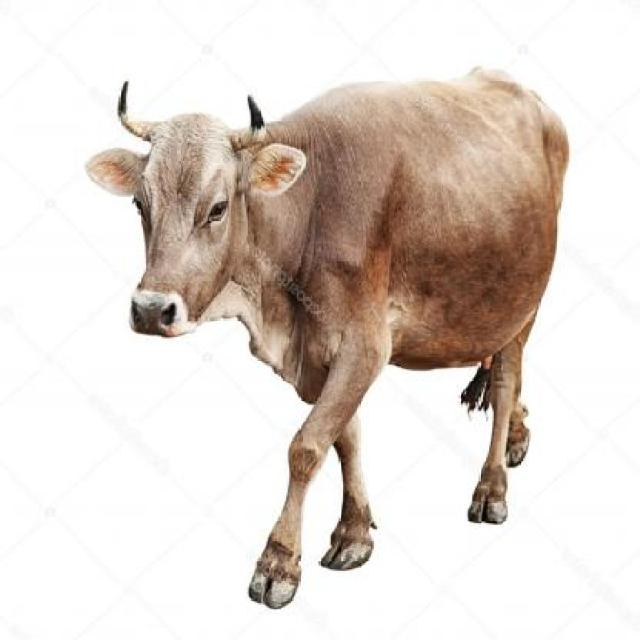Cow: (86, 43, 582, 619)
